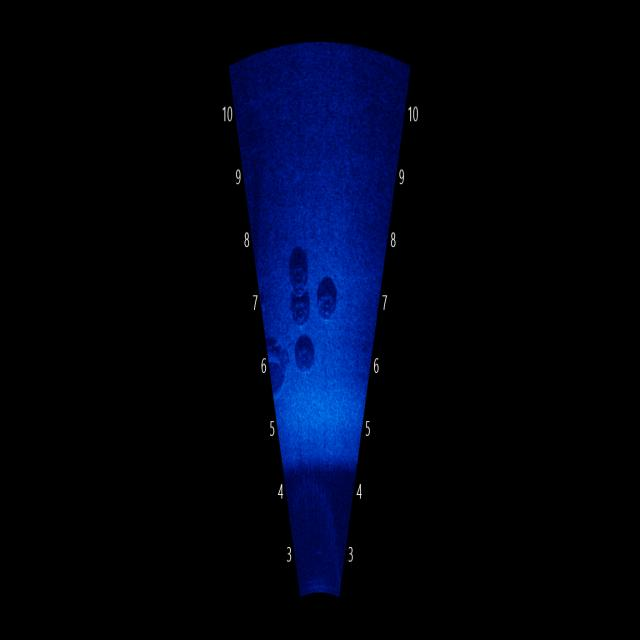circle: (315, 281, 340, 327)
